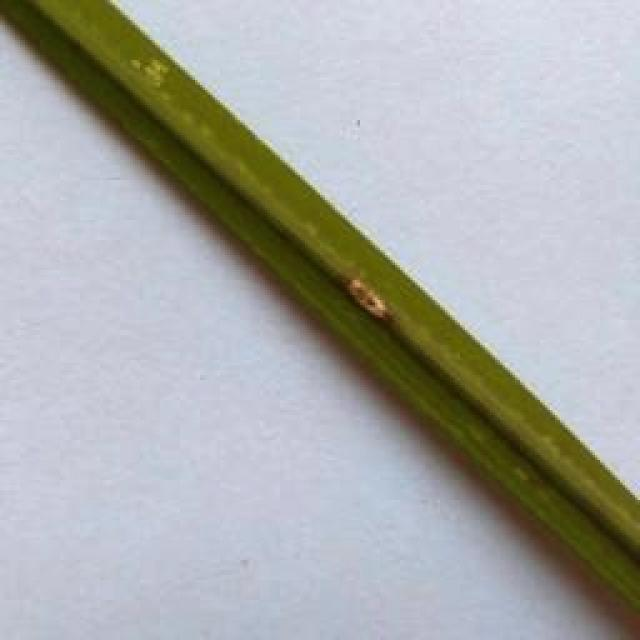Unhealthy: (342, 275, 395, 326)
